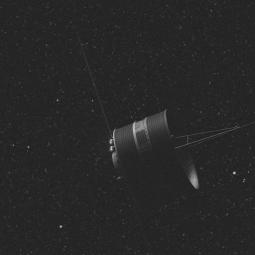double_start: (91, 109, 245, 212)
